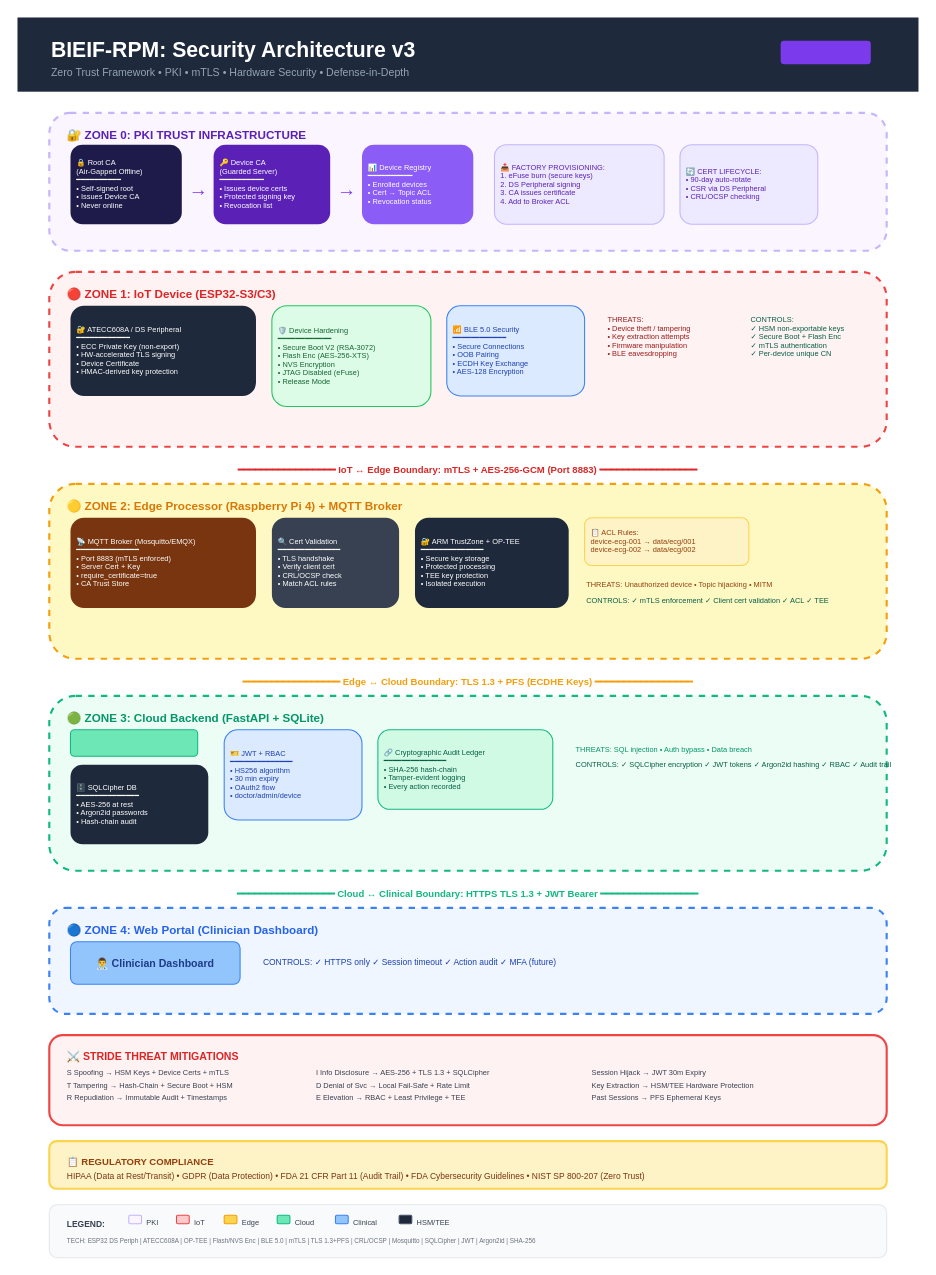
The diagram is 936 pixels wide and 1275 high, and some of its shapes have lost their labels. Here are the shapes that lost their labels. From the top down, the centre of each, then its label:
At point 825,52: "ZERO TRUST".
At point 133,742: "🖥️ FastAPI Server".
